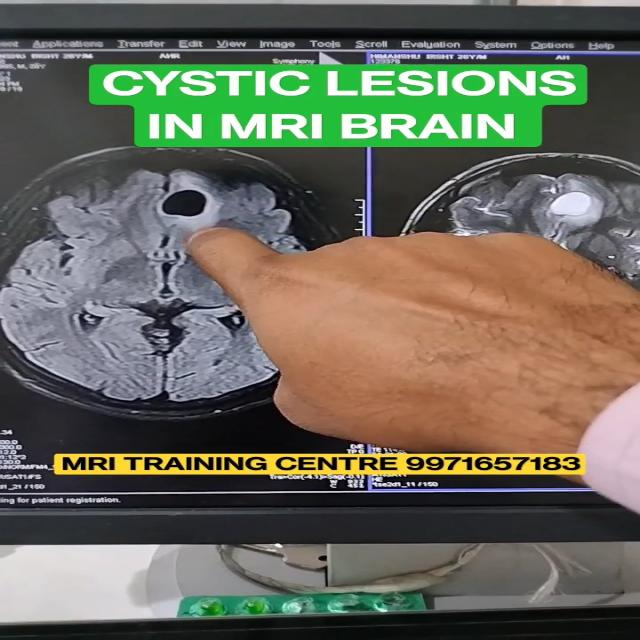tumor: (152, 170, 238, 233)
